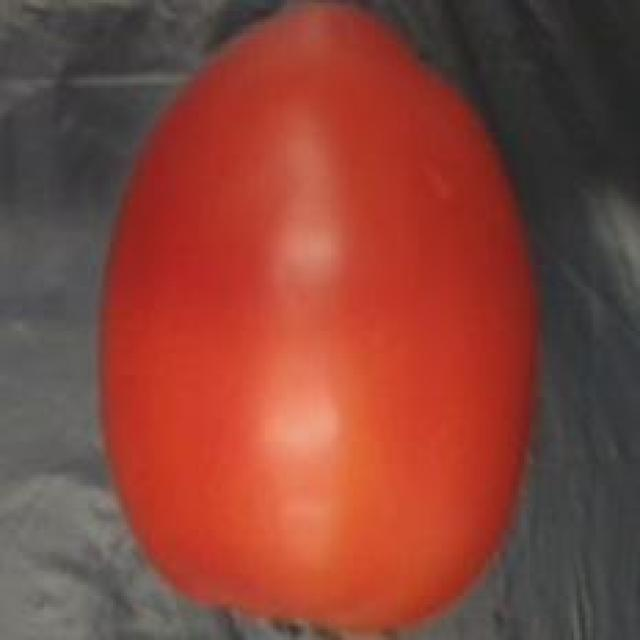ripe tomato: (88, 0, 549, 640)
